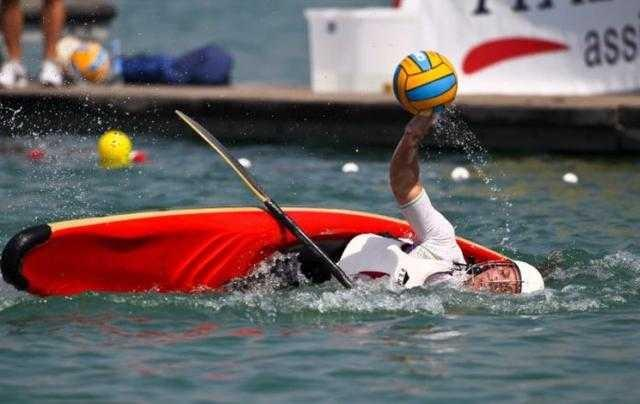kayak: (0, 204, 408, 298)
